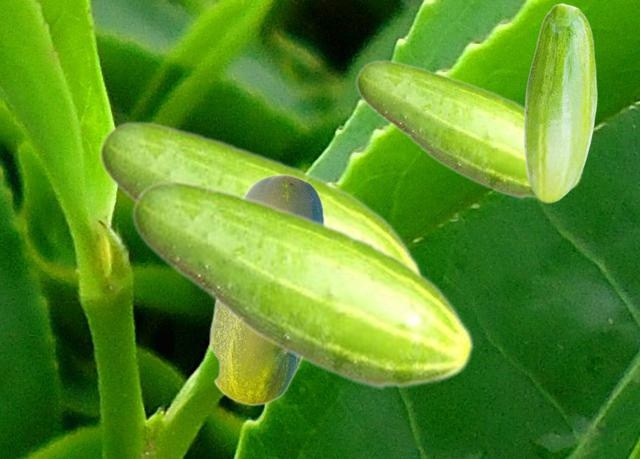cucumber: (131, 179, 474, 390), (98, 120, 422, 271), (355, 59, 583, 199), (208, 173, 323, 405), (523, 3, 596, 202)
